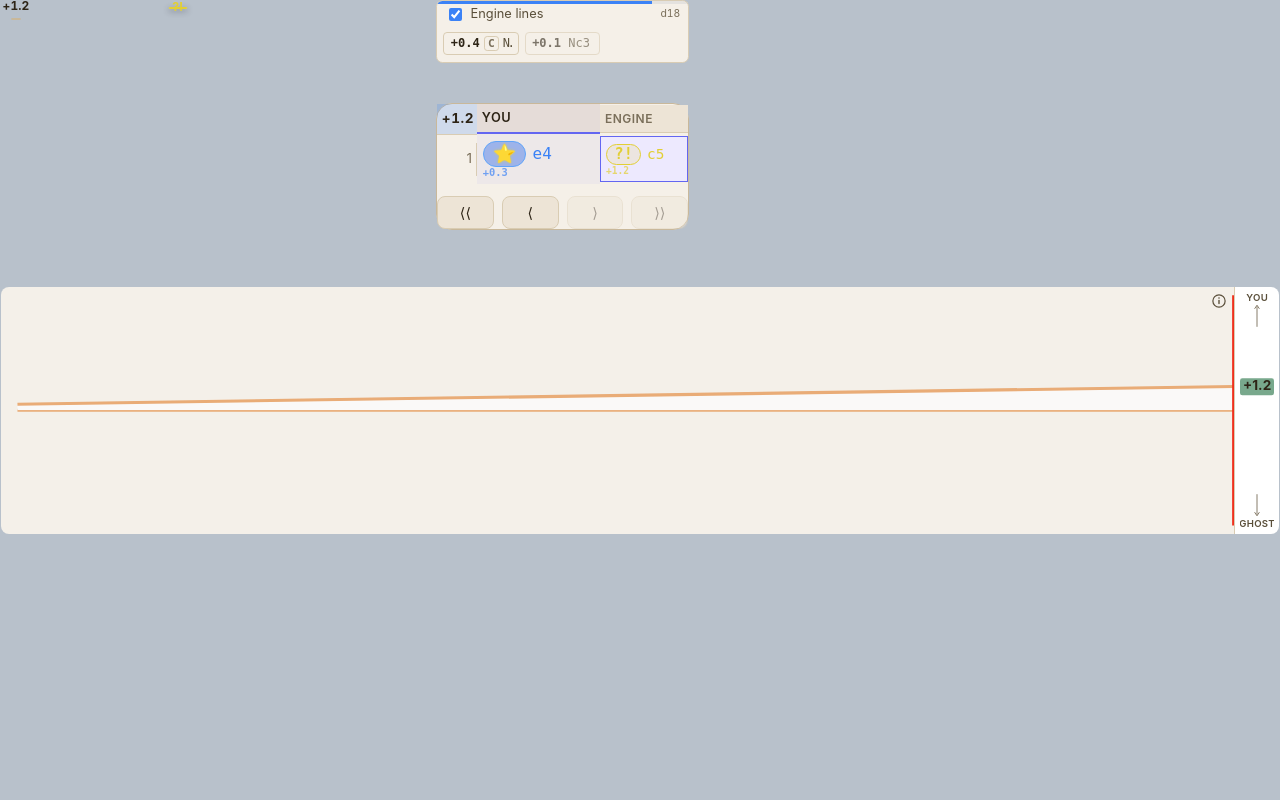
AnalysisBoard MoveList › renders the cached best line popup with its full stored PV continuation
Click the button with aria-label "Show engine line 1" at [481, 44], box [443, 32, 519, 55]
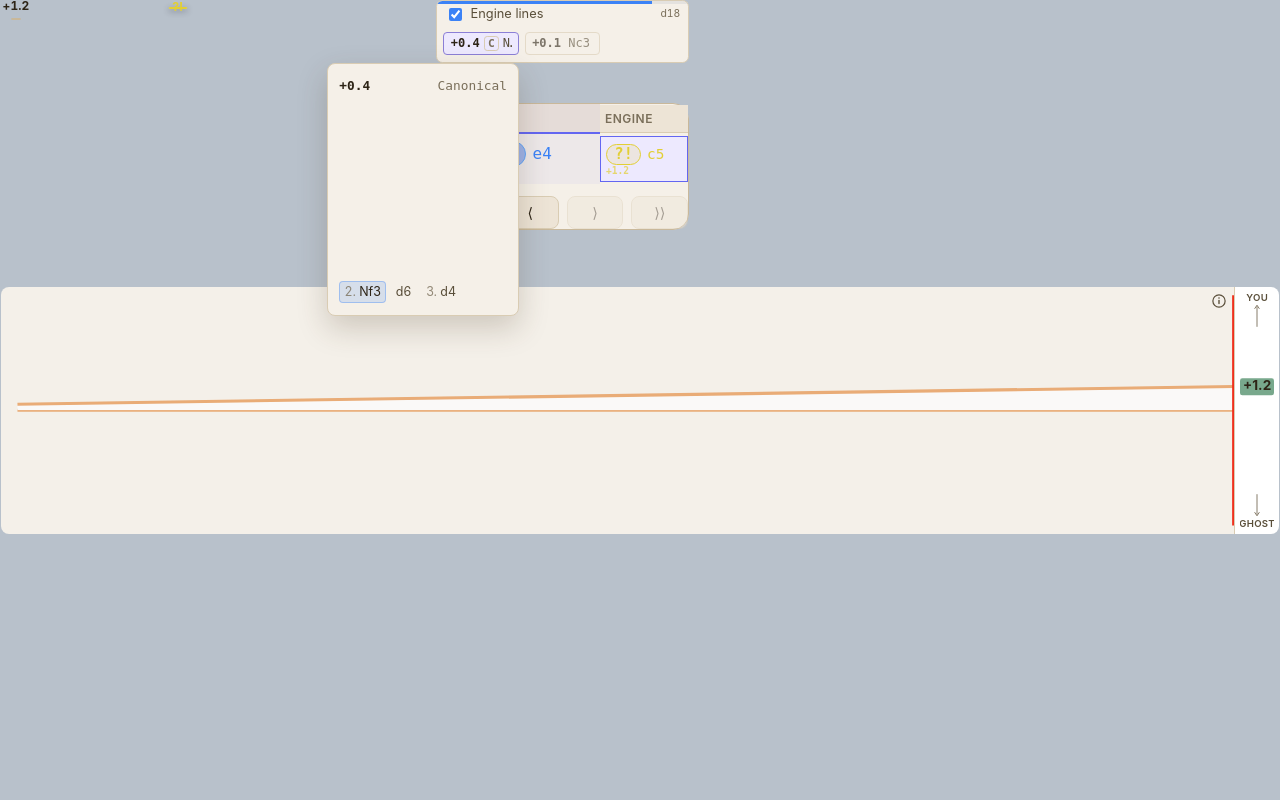
Now the dialog named "Engine line preview" shows "Nf3", box [339, 281, 386, 303]
Now the dialog named "Engine line preview" shows "d6", box [390, 281, 417, 303]
Now the dialog named "Engine line preview" shows "d4", box [421, 281, 462, 303]
